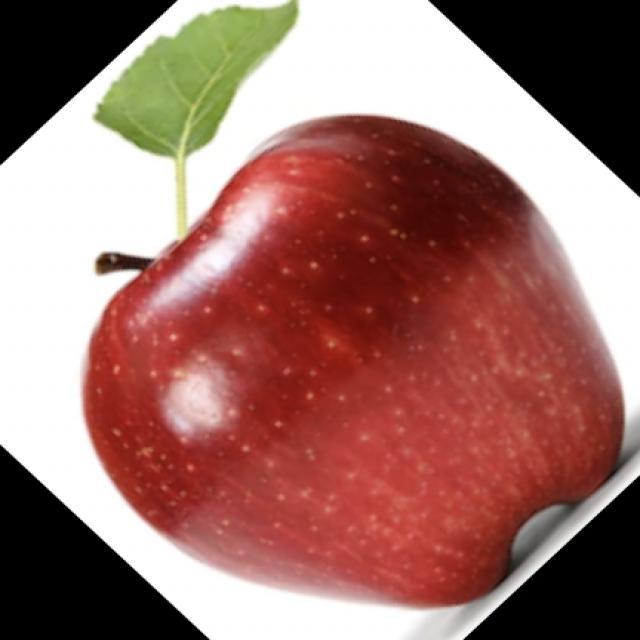Fresh Apple: (77, 85, 628, 640)
